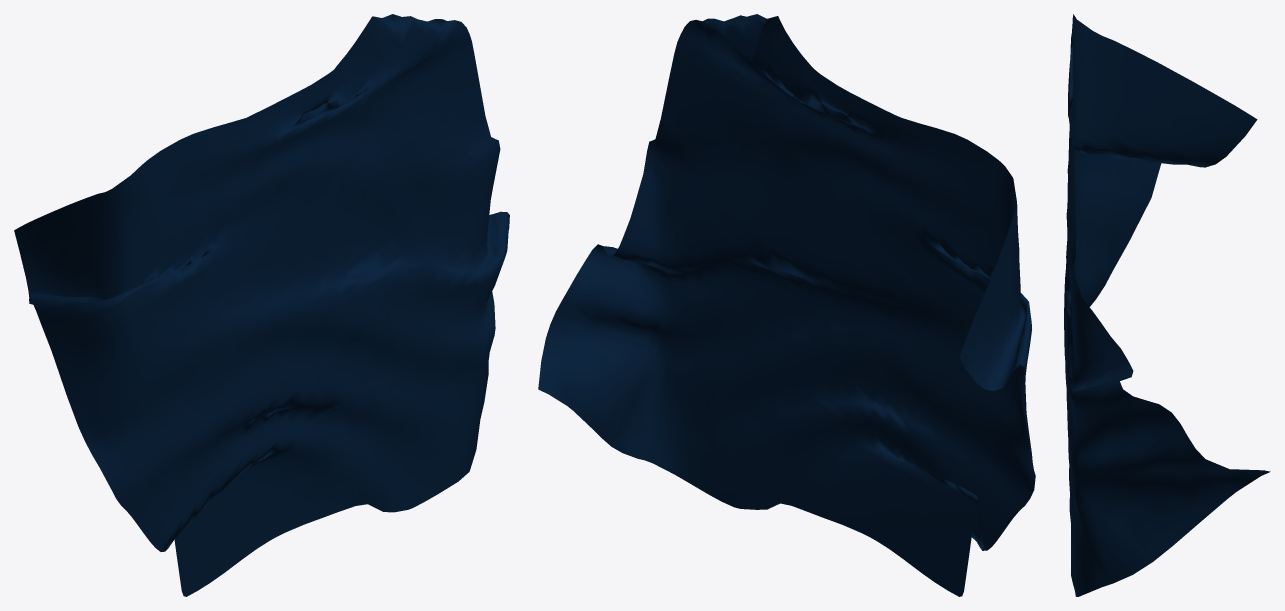
Rendered from BedsheetUnmade_13_BedsheetUnmade_6_2.obj.
3 renders of one model, left to right at view 1: azimuth 30°, elevation 25°; view 2: azimuth 150°, elevation 25°; view 3: azimuth 270°, elevation 25°, orthographic. The views are drawn at different scales.
Visible parts, largest first — view 1: BedsheetUnmade_6; view 2: BedsheetUnmade_6; view 3: BedsheetUnmade_6.
Part boxes in pixels (x1,y1,x2,y2): BedsheetUnmade_6: (14, 14, 509, 596); BedsheetUnmade_6: (538, 14, 1035, 596); BedsheetUnmade_6: (1064, 14, 1270, 596).
Bounding box in the file's own units: 1.57 × 1.73 × 0.5717.
